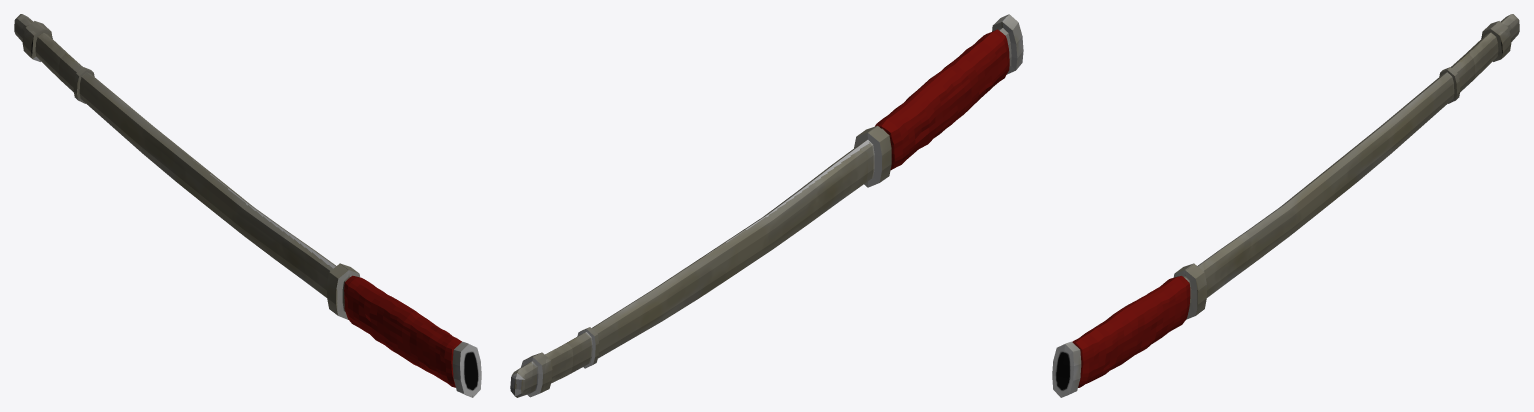
The model's file is chikage_part.obj.
3 renders of one model, left to right at view 1: azimuth 30°, elevation 25°; view 2: azimuth 150°, elevation 25°; view 3: azimuth 330°, elevation 25°, orthographic. The views are drawn at different scales.
Visible parts, largest first — view 1: iron_part_Circle.001, cloth_part_Circle.002; view 2: iron_part_Circle.001, cloth_part_Circle.002; view 3: iron_part_Circle.001, cloth_part_Circle.002.
Boxes of the visible parts, box(x1,y1,x2,y2) form: iron_part_Circle.001: box(14, 14, 481, 397); cloth_part_Circle.002: box(344, 275, 461, 387); iron_part_Circle.001: box(510, 14, 1023, 397); cloth_part_Circle.002: box(875, 29, 1009, 170); iron_part_Circle.001: box(1052, 14, 1519, 397); cloth_part_Circle.002: box(1072, 276, 1190, 387).
Bounding box in the file's own units: 0.2455 × 0.604 × 7.16.
